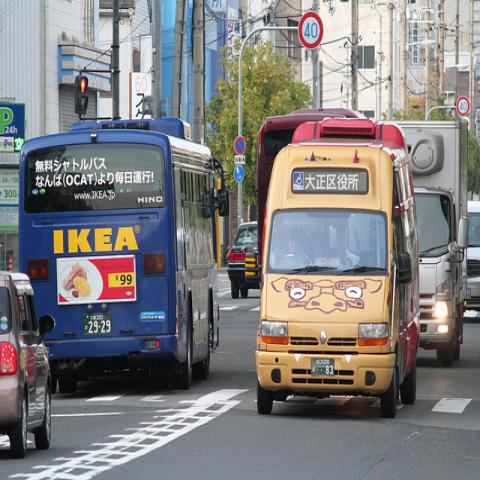bus: (18, 120, 219, 391), (257, 108, 369, 282)
car: (0, 273, 54, 454), (228, 225, 261, 294), (466, 200, 480, 310)
truck: (255, 114, 421, 420), (391, 120, 472, 364)
